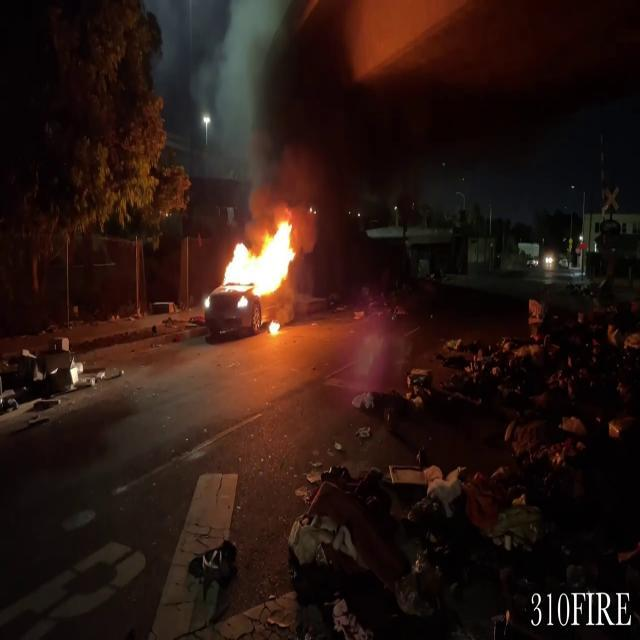Fire: (214, 212, 302, 313)
Smoke: (232, 0, 410, 210)
